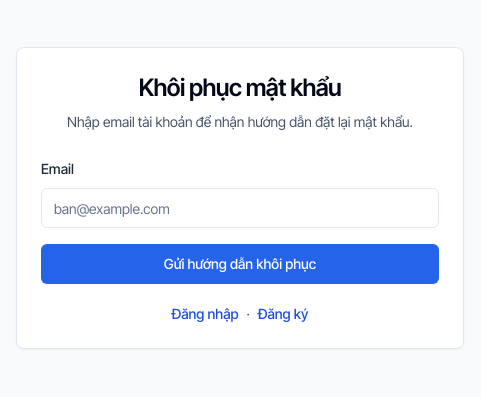
Test case: Auth pages › shows forgot password validation and server errors
This screenshot has width=481, height=397.
Click the button "Gửi hướng dẫn khôi phục" at point(240, 264), box [41,244,439,284]
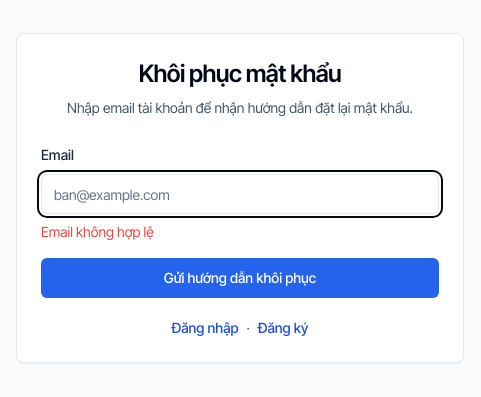
Expected: the text "Email không hợp lệ" is shown, [41,223,154,240]
Type "user@example.com" into the field labelled "Email" at point(240, 194), box [41,174,439,214]
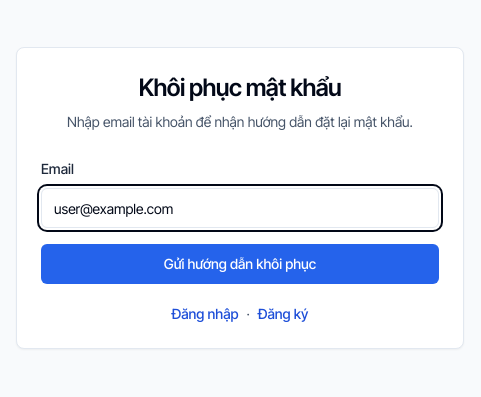
Click the button "Gửi hướng dẫn khôi phục" at point(240, 264), box [41,244,439,284]
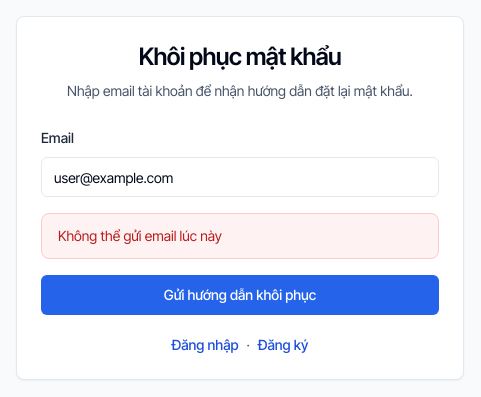
Expected: the message reads "Không thể gửi email lúc này", [58,227,222,244]
